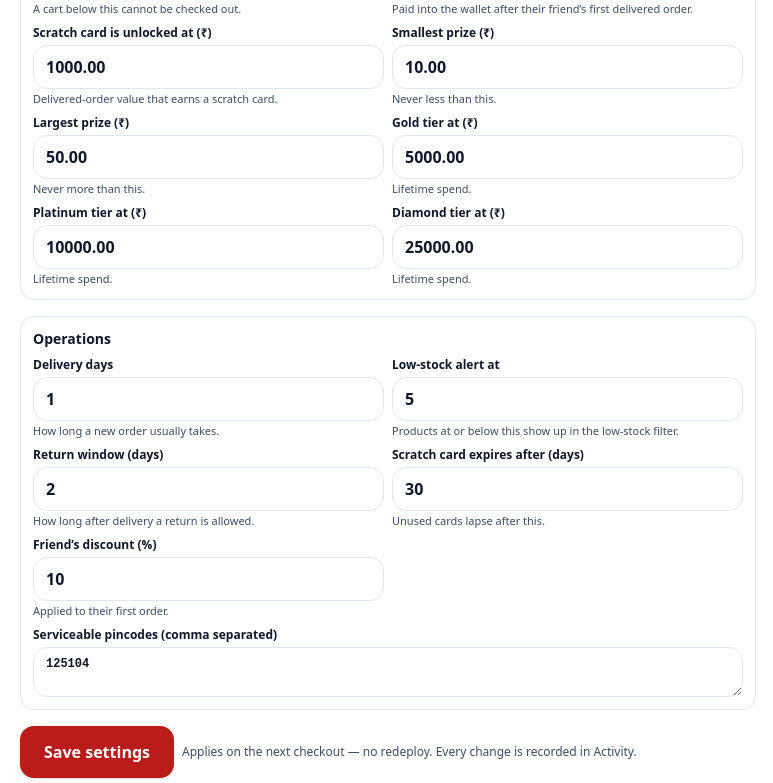
Test: AdminSettingsPage › shows the server’s refusal instead of pretending it saved
This screenshot has width=773, height=783.
(page scrolled)
Click the button "Save settings": (97,752) [20,726,174,778]
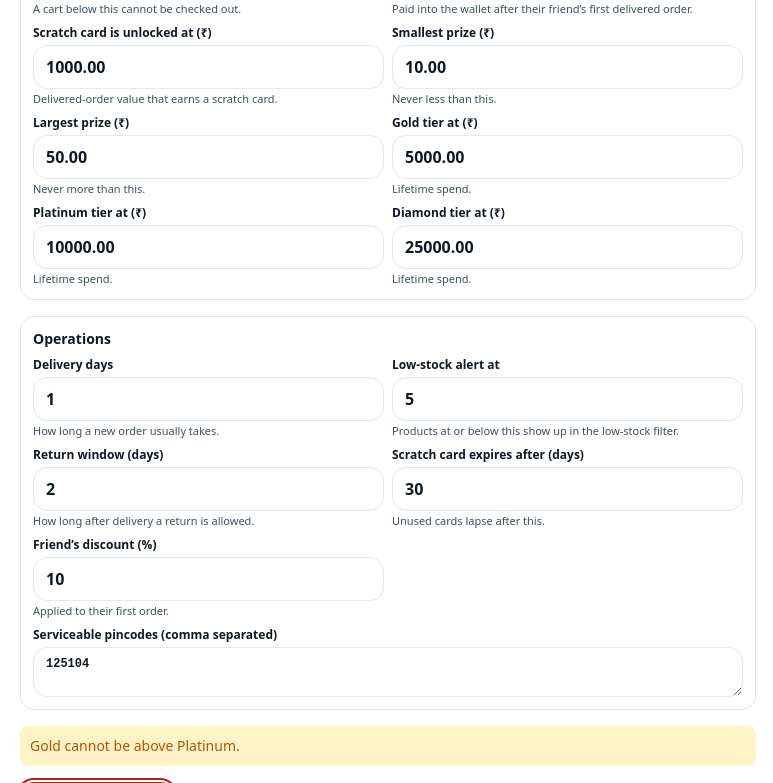
Result: the message reads "Gold cannot be above Platinum." at [30,736,240,755]
